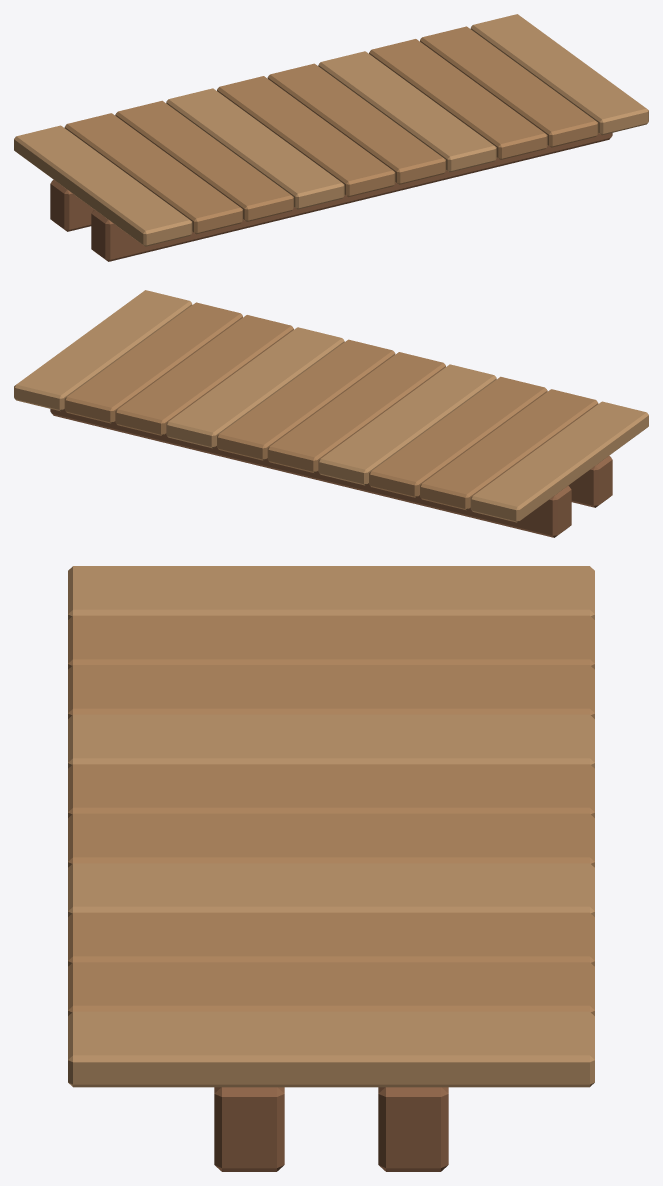
File: public_wall_walkway_2m.glb
The picture shows the model from 3 angles, top to bottom: view 1: azimuth 30°, elevation 25°; view 2: azimuth 150°, elevation 25°; view 3: azimuth 270°, elevation 25°; orthographic projection. The views are drawn at different scales.
Visible parts, largest first — view 1: public_wall_walkway_2m; view 2: public_wall_walkway_2m; view 3: public_wall_walkway_2m.
Boxes of the visible parts, <box> form: public_wall_walkway_2m: <box>14,14,648,261</box>; public_wall_walkway_2m: <box>14,290,648,537</box>; public_wall_walkway_2m: <box>68,566,594,1171</box>.
Size of the model in its own units: 2 by 0.22 by 0.9.
